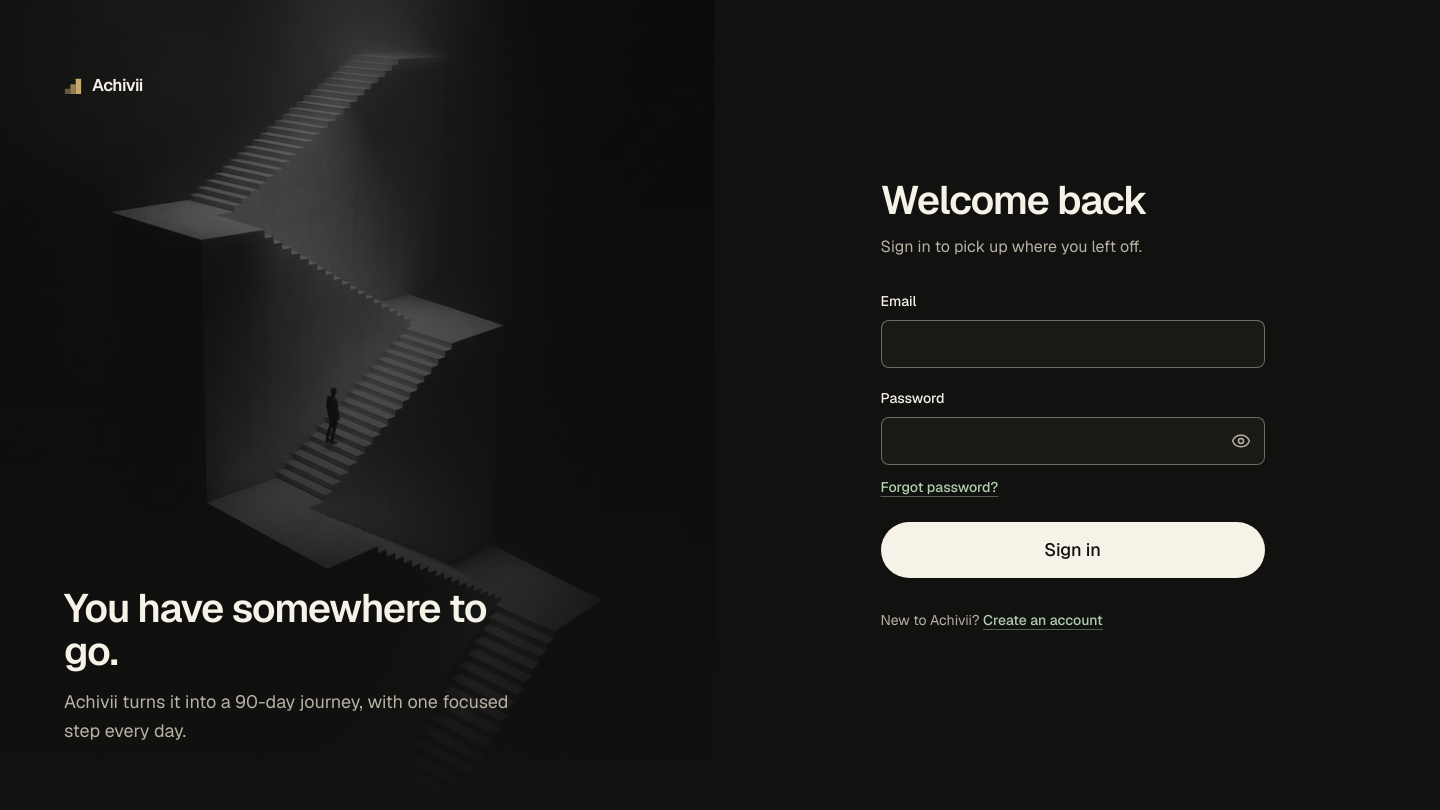
Test case: password reset (B-15) › sign-in links to the reset screen with the typed email
Type "mo@example.com" into the field labelled "Email" at {"x": 1072, "y": 344}, box [880,320,1264,368]
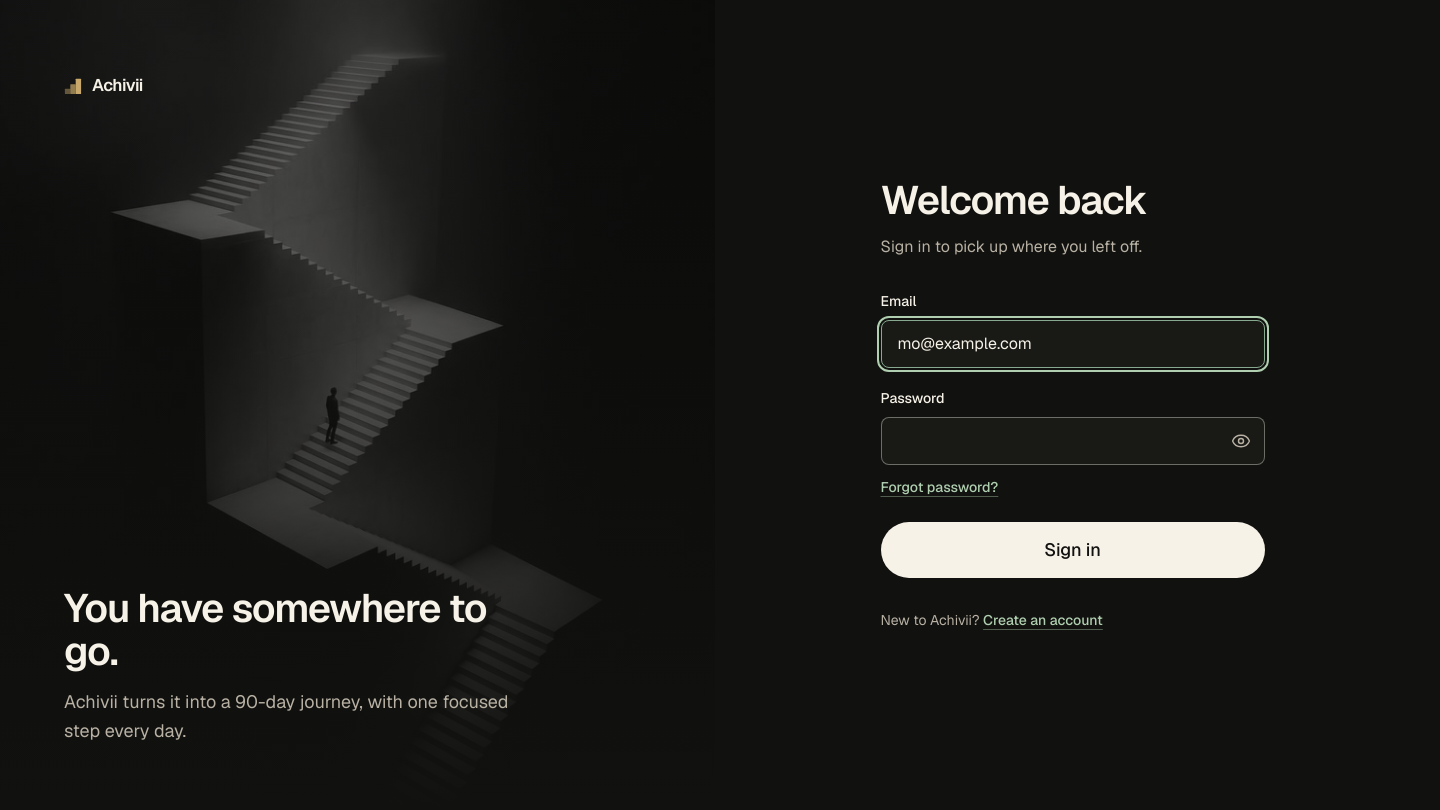
Click the link "Forgot password?" at {"x": 939, "y": 487}, box [880,478,998,496]
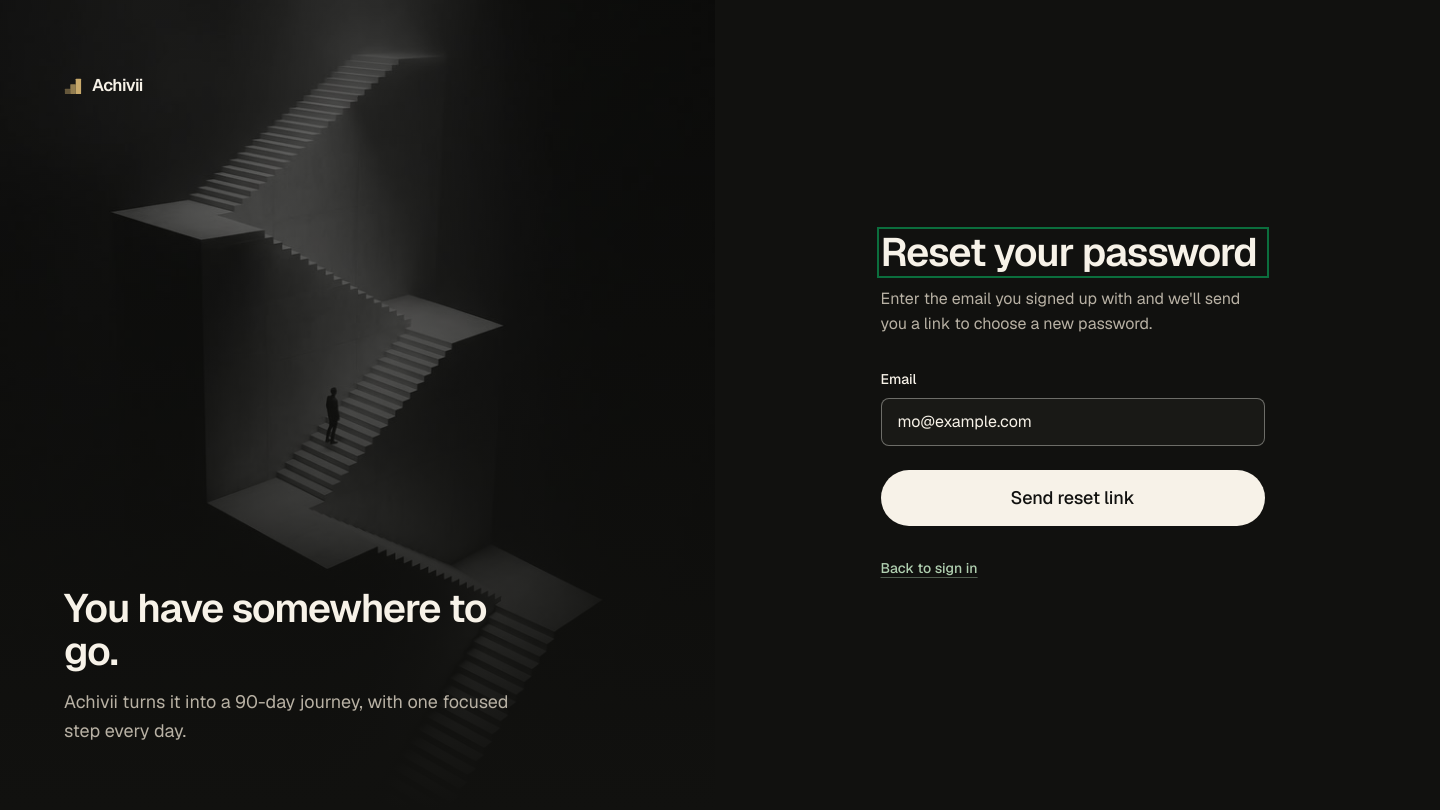
Check: the field labelled "Email" holds "mo@example.com", box [880,398,1264,446]
Check: the heading "Reset your password" is shown, box [880,231,1264,274]
